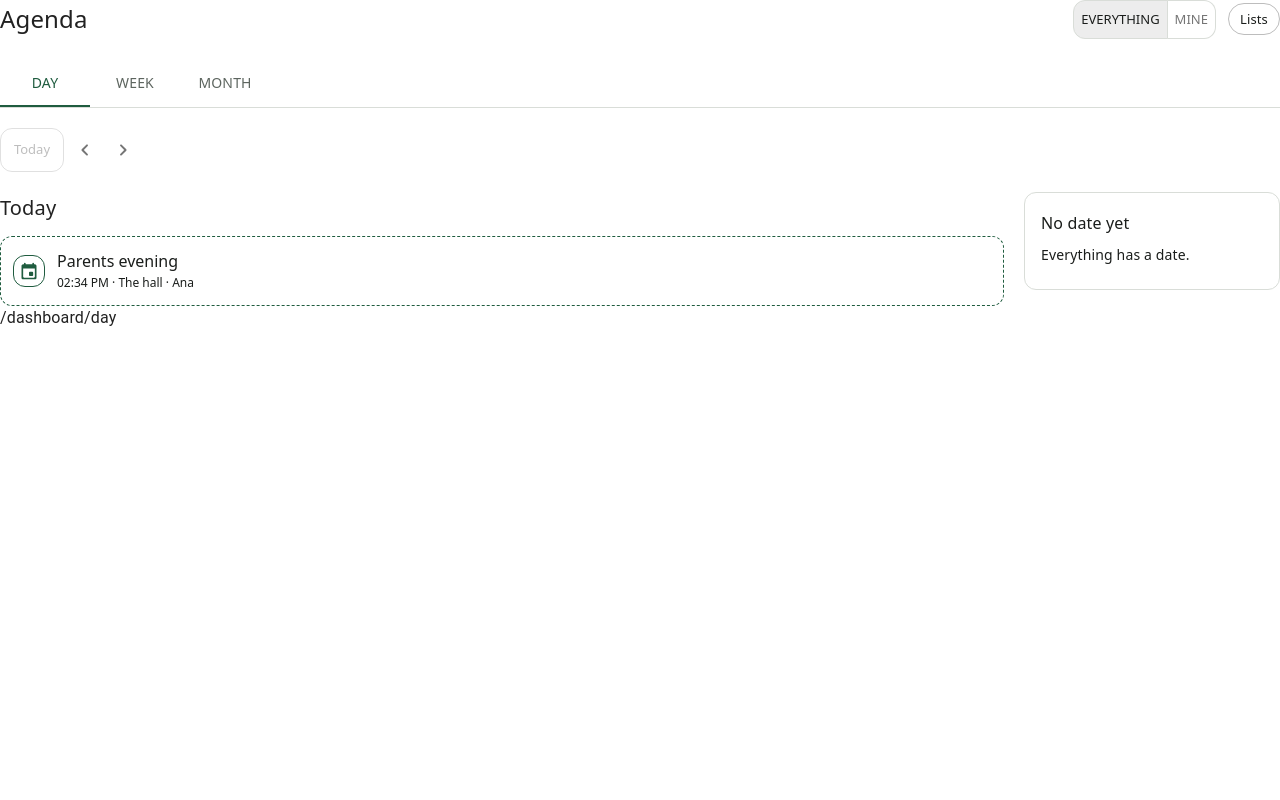
it: DashboardPage › opens an event read-only, with no way to do anything to it
The image size is (1280, 800).
Click the button "Parents evening 02:34 PM · The hall · Ana" at point(29, 271), box top-left (1, 237), bottom-right (1003, 305)
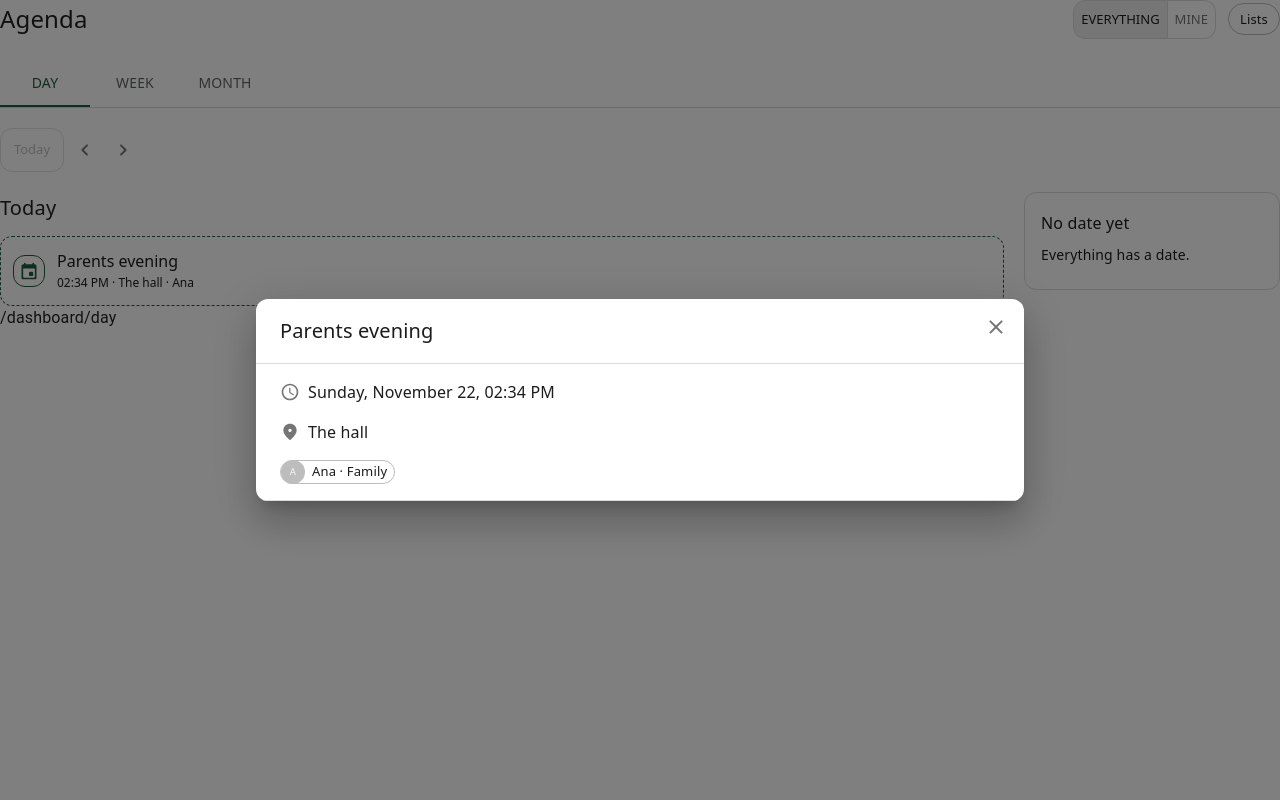
Now the dialog shows "The hall", box top-left (308, 421), bottom-right (368, 443)
Now the dialog shows "Ana · Family", box top-left (312, 462), bottom-right (387, 480)
